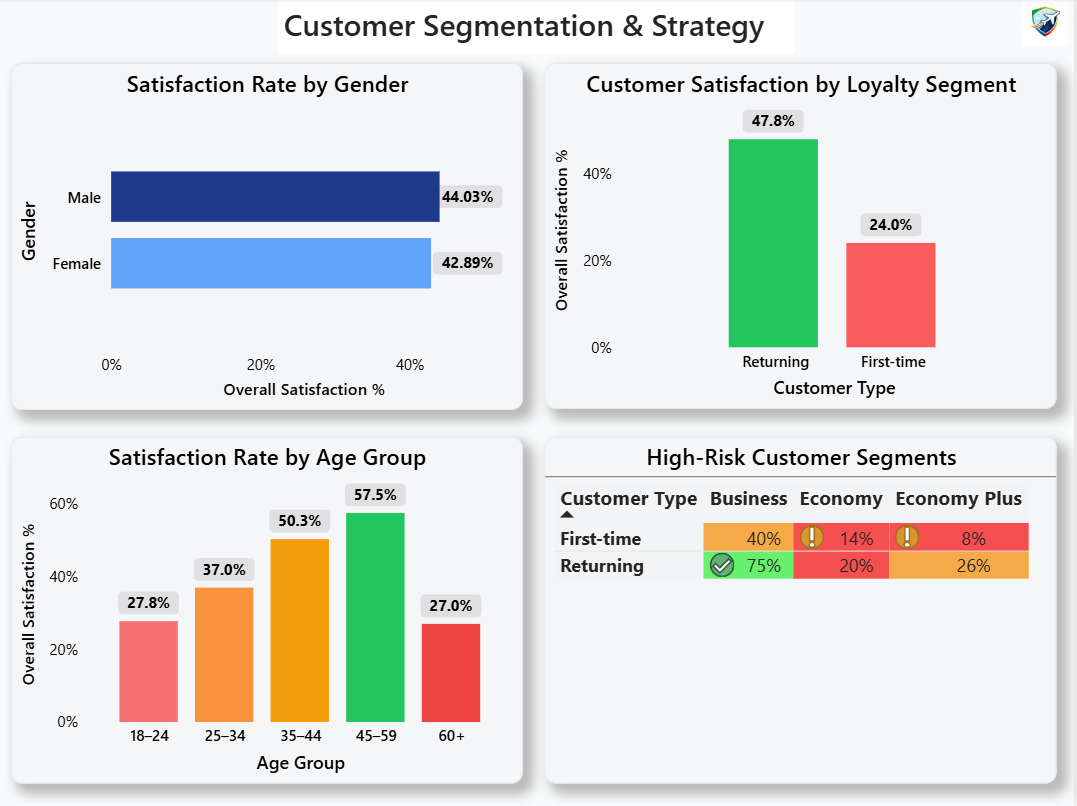

This screenshot's page, from the dashboard's own definition file:
{"tool":"powerbi","page":{"name":"Customer Segmentation & Strategy","canvas":[960,720],"ordinal":3},"visuals":[{"type":"textbox","box":[250.2,0,459.7,49.4],"z":0},{"type":"clusteredColumnChart","title":"Satisfaction Rate by Age Group","fields":{"Category":["airline_passenger_satisfaction.Age Group"],"Y":["airline_passenger_satisfaction.Overall Satisfaction %"]},"box":[12.1,390.9,456,308.8],"z":1000},{"type":"clusteredBarChart","title":"Satisfaction Rate by Gender","fields":{"Category":["airline_passenger_satisfaction.Gender"],"Y":["airline_passenger_satisfaction.Overall Satisfaction %"]},"box":[12.1,57.9,456,308.8],"z":2000},{"type":"clusteredColumnChart","title":"Customer Satisfaction by Loyalty Segment","fields":{"Category":["airline_passenger_satisfaction.Customer Type"],"Y":["airline_passenger_satisfaction.Overall Satisfaction %"]},"box":[487.4,57.9,456,308],"z":3000},{"type":"pivotTable","title":"High-Risk Customer Segments","fields":{"Rows":["airline_passenger_satisfaction.Customer Type"],"Columns":["airline_passenger_satisfaction.Class"],"Values":["airline_passenger_satisfaction.Overall Satisfaction %"]},"box":[487.4,390.9,456,308.8],"z":4000},{"type":"image","box":[906,0,54.3,42.2],"z":5000}]}

Visuals, with their boxes in screenshot pixels (x1, y1, x2, y2), scaled from the page's 960x720 canvas onto the 1077x806 screenshot:
textbox: detection(281, 0, 796, 55)
"Satisfaction Rate by Age Group" clusteredColumnChart: detection(14, 438, 525, 783)
"Satisfaction Rate by Gender" clusteredBarChart: detection(14, 65, 525, 411)
"Customer Satisfaction by Loyalty Segment" clusteredColumnChart: detection(547, 65, 1058, 410)
"High-Risk Customer Segments" pivotTable: detection(547, 438, 1058, 783)
image: detection(1016, 0, 1076, 47)
